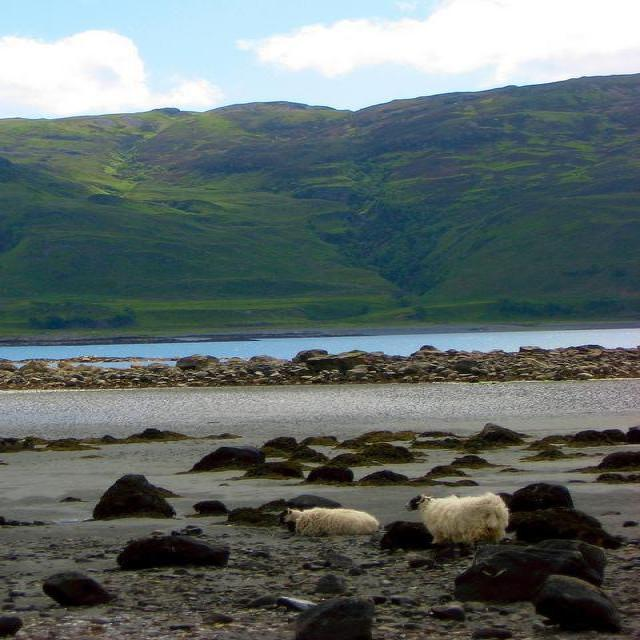Sheep: (407, 492, 509, 551)
